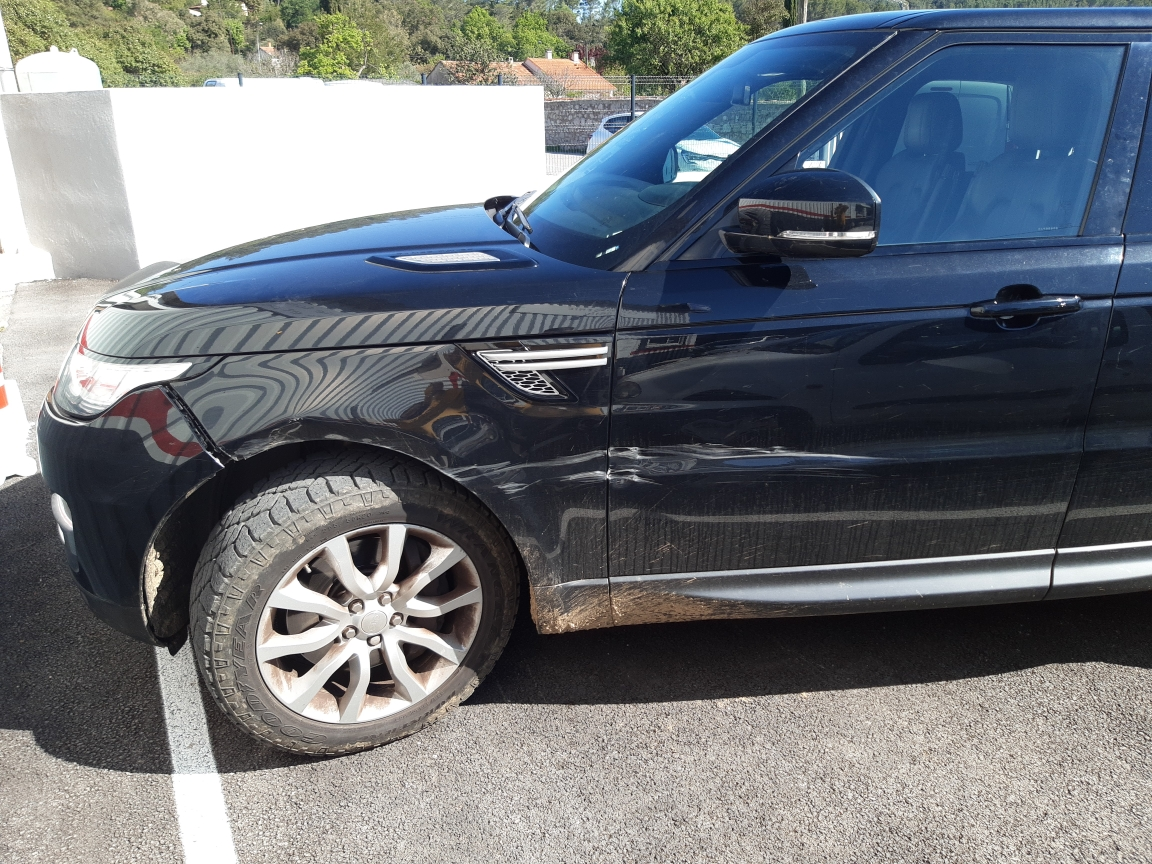front door: (578, 10, 1145, 668)
